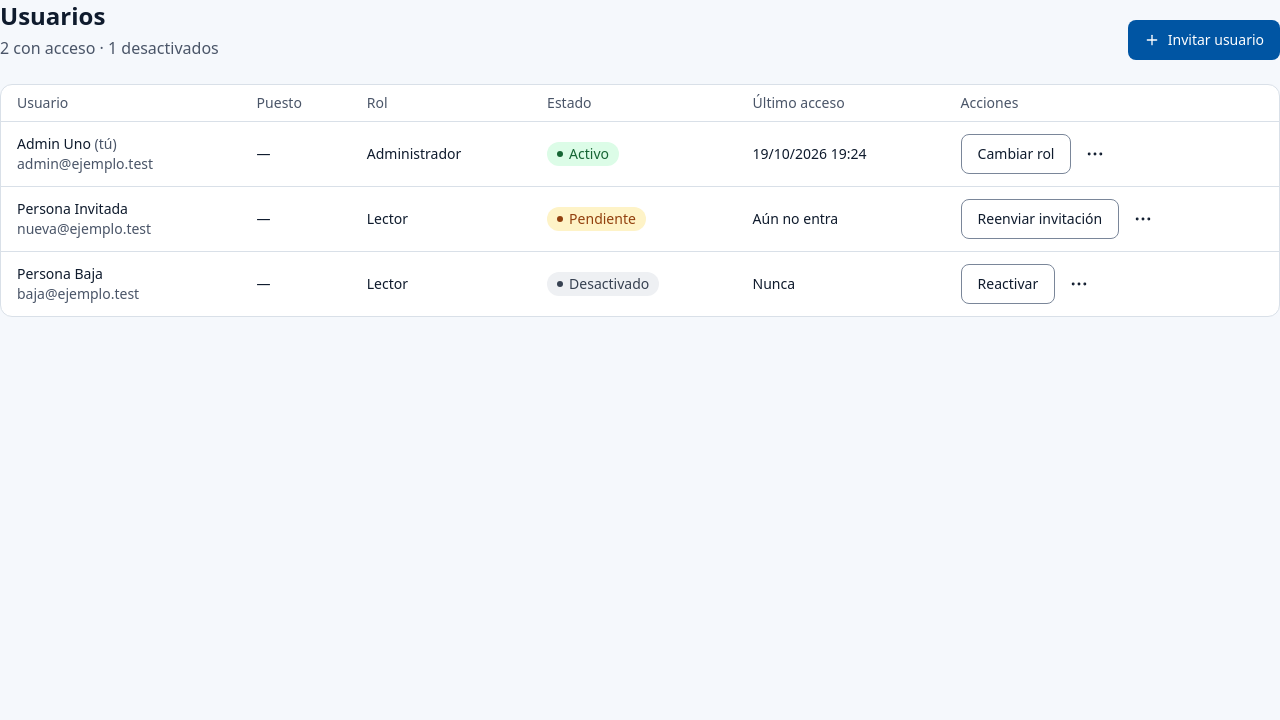
Test case: P-60 · Usuarios › D-08: valida la invitación y la envía con el rol elegido
Click the button "Invitar usuario": (1204, 40) [1128,20,1279,60]
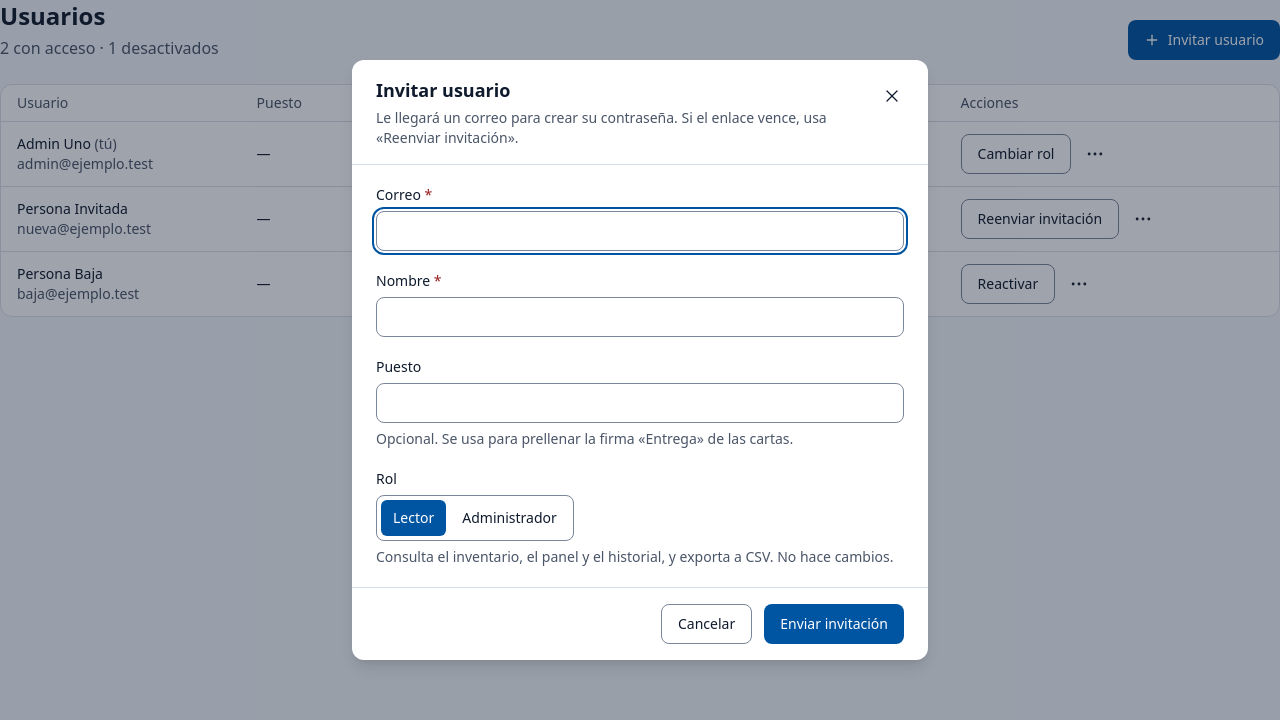
Click the button "Enviar invitación": (834, 624) [764,604,904,644]
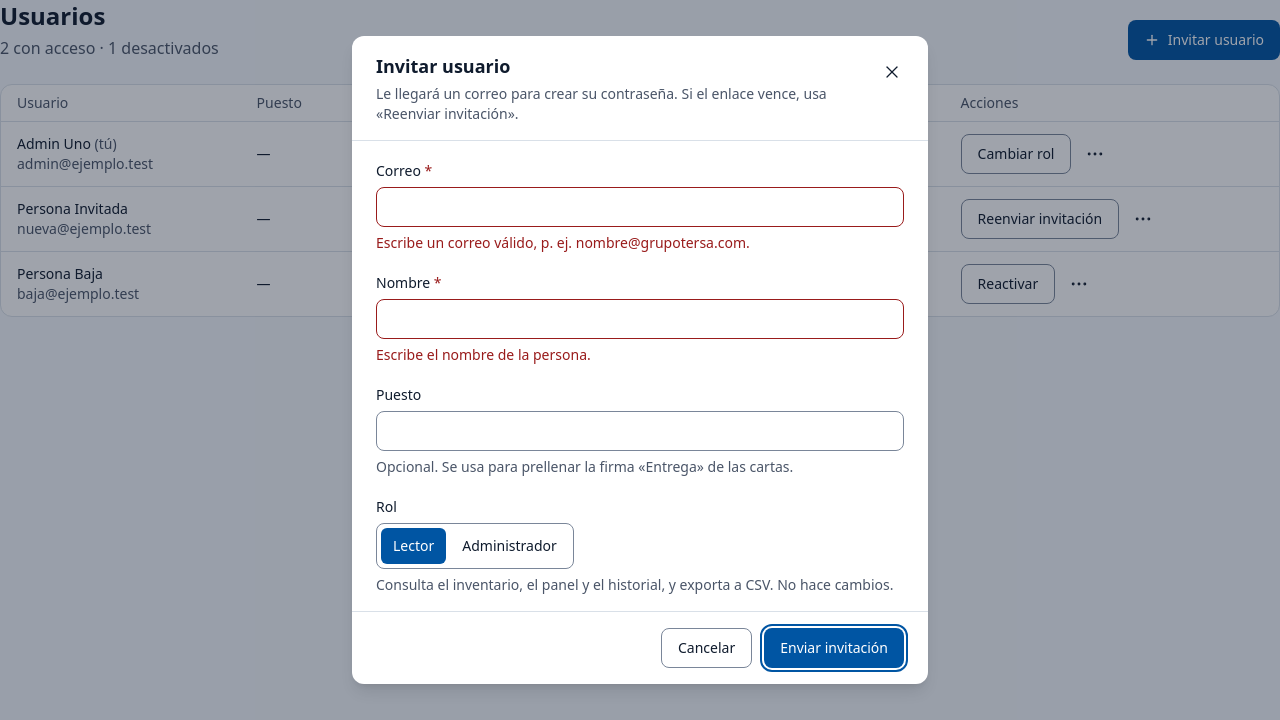
In the field labelled "Correo *": (640, 207) [376,187,904,227], type "ana@grupotersa.com"
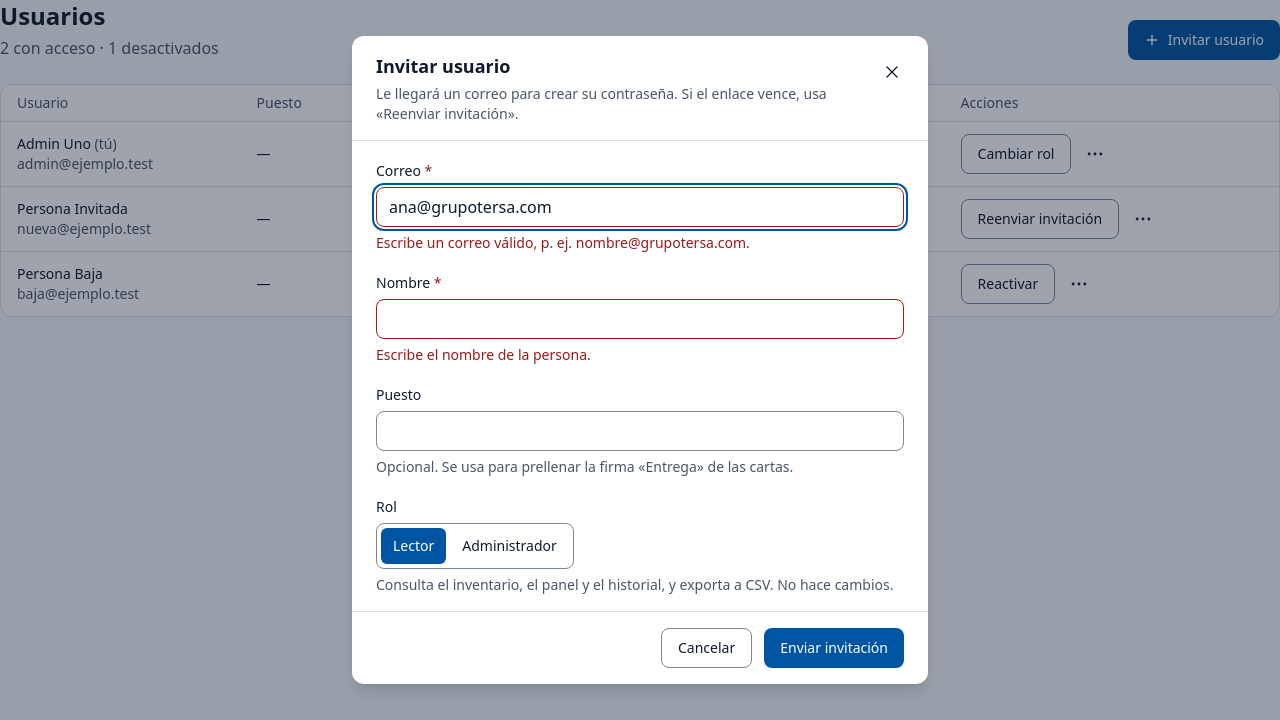
In the field labelled "Nombre *": (640, 319) [376,299,904,339], type "Ana Pérez"
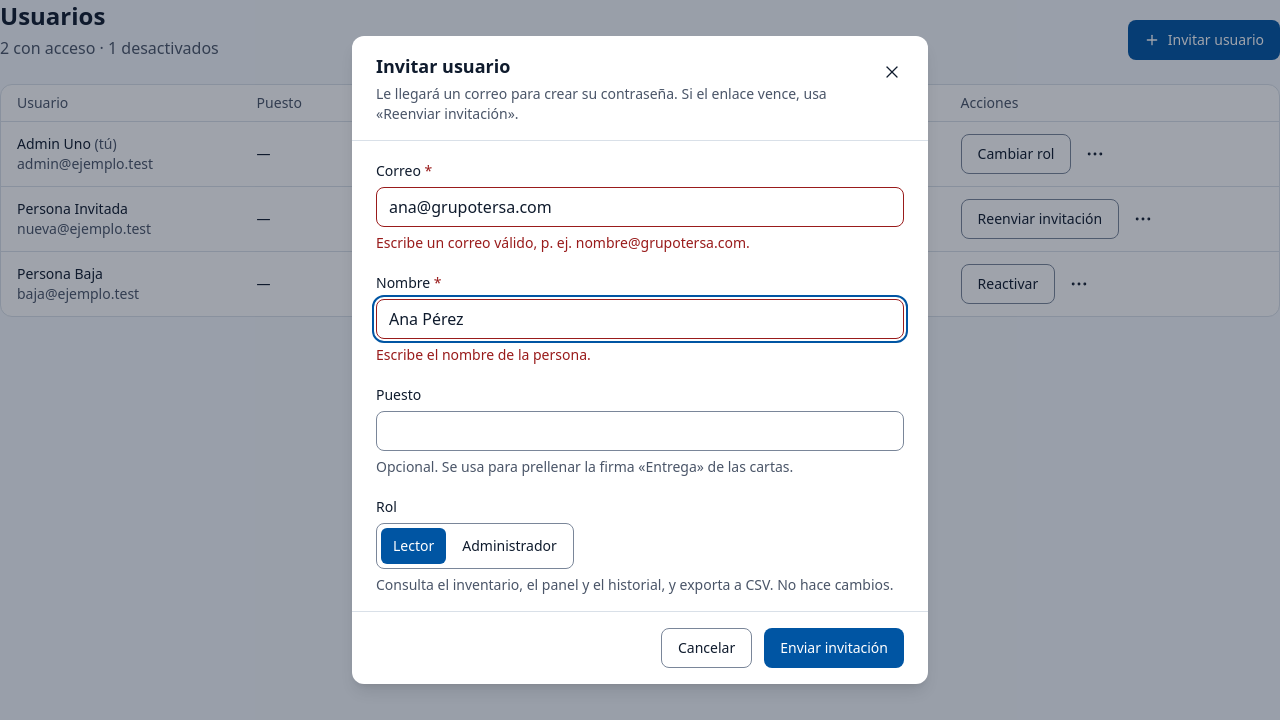
Click the radio button labelled "Administrador": (510, 546) [462,536,557,555]
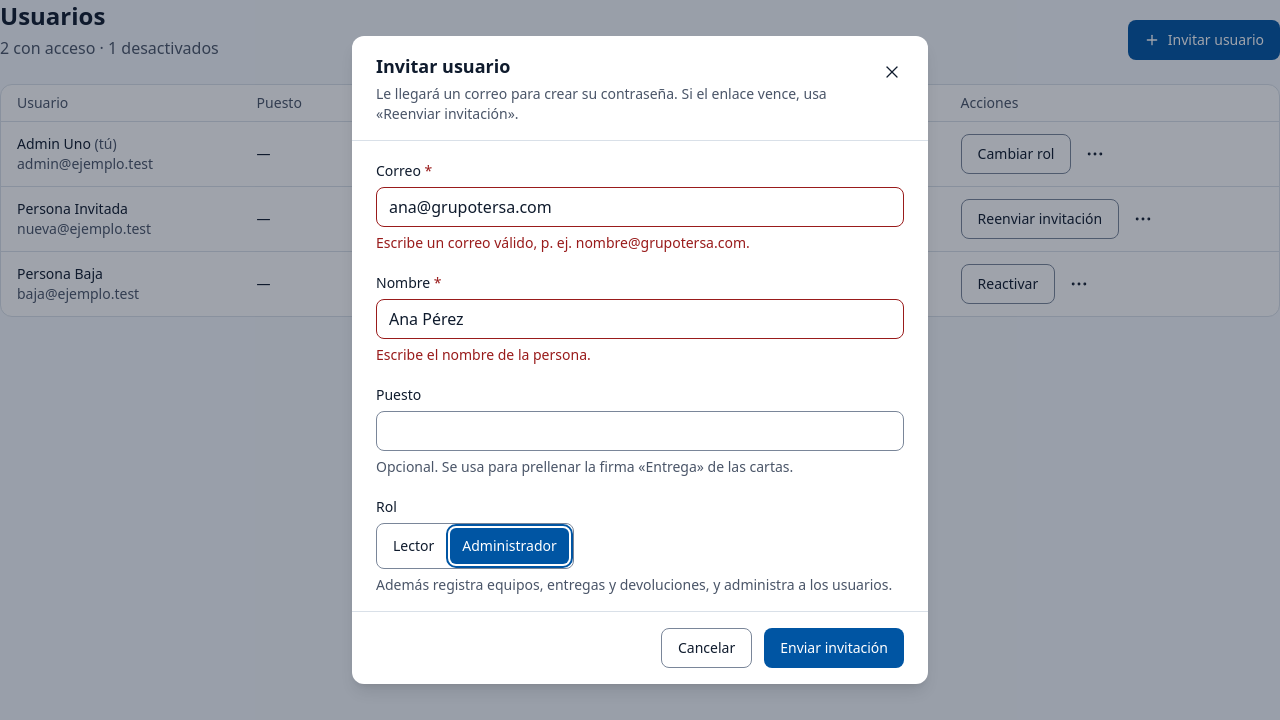
Click the button "Enviar invitación": (834, 648) [764,628,904,668]
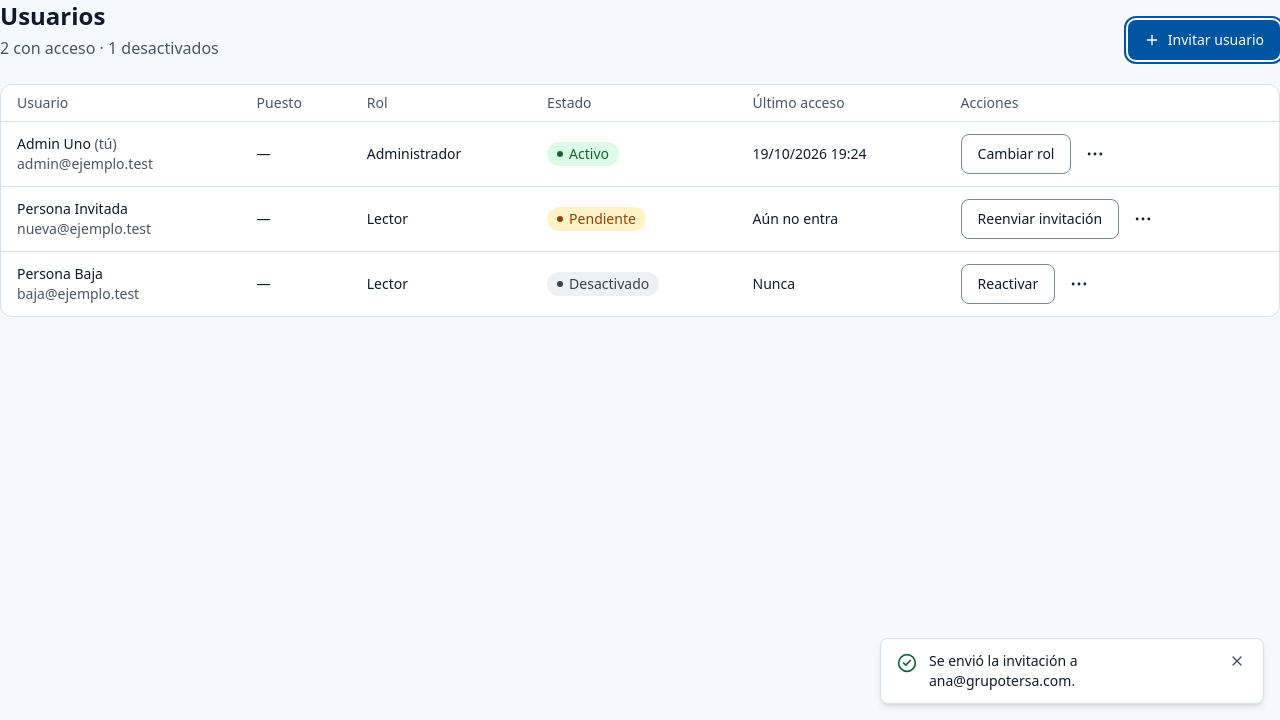
Now the dialog is gone
